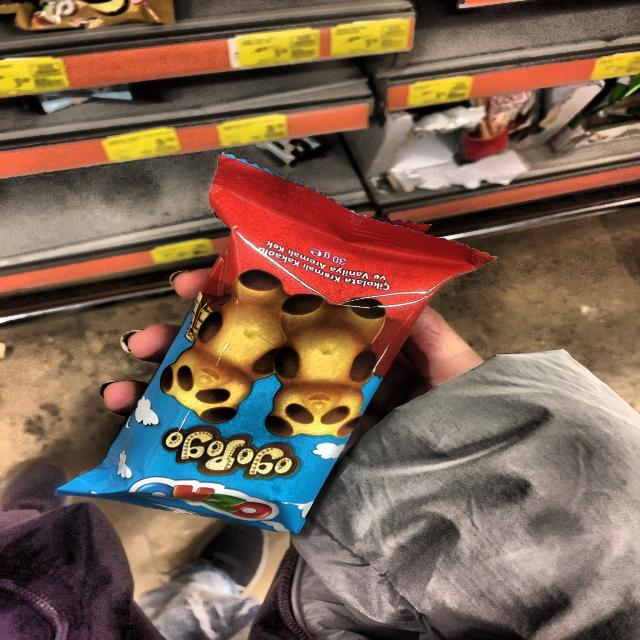Plastic: (70, 185, 532, 550)
